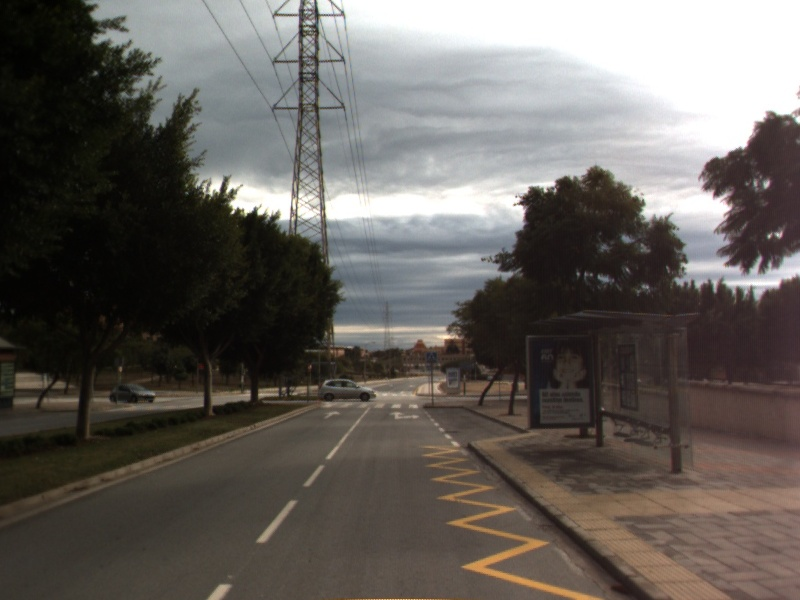STRAIGHT: (321, 408, 343, 421)
STRAIGHT_RIGHT: (387, 409, 421, 422)
